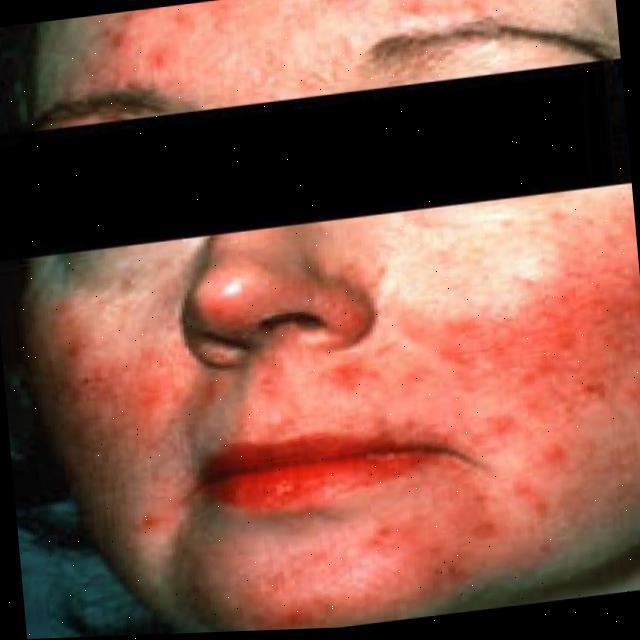Rosacea: (441, 213, 640, 519), (34, 301, 190, 566), (125, 0, 460, 80), (263, 522, 443, 627)
